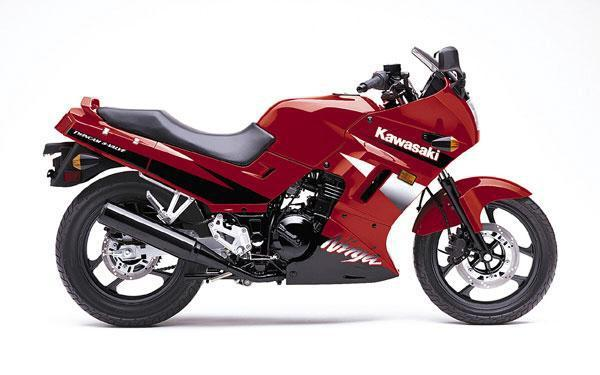motorcycle: (39, 32, 569, 340)
